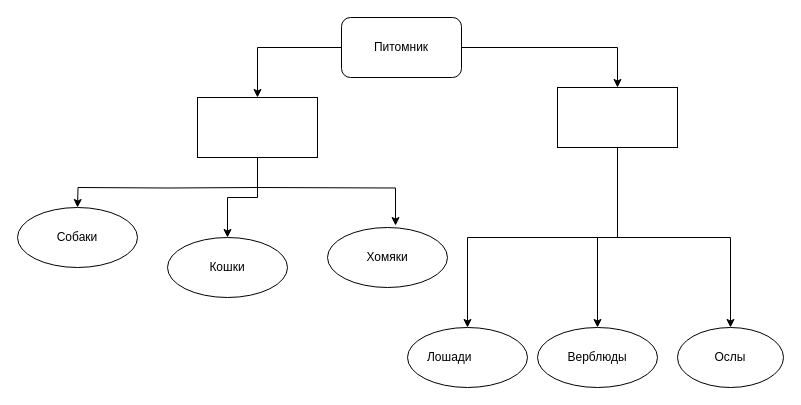
Some shapes in this 801 by 405 pixel diagram are drawn without their labels. The shapes that lost their labels are listed below. From the top down, each one's centre as x and y in pixels, then its label:
At pixel 257 127: "Домашние животные".
At pixel 617 117: "Вьючные животные".
